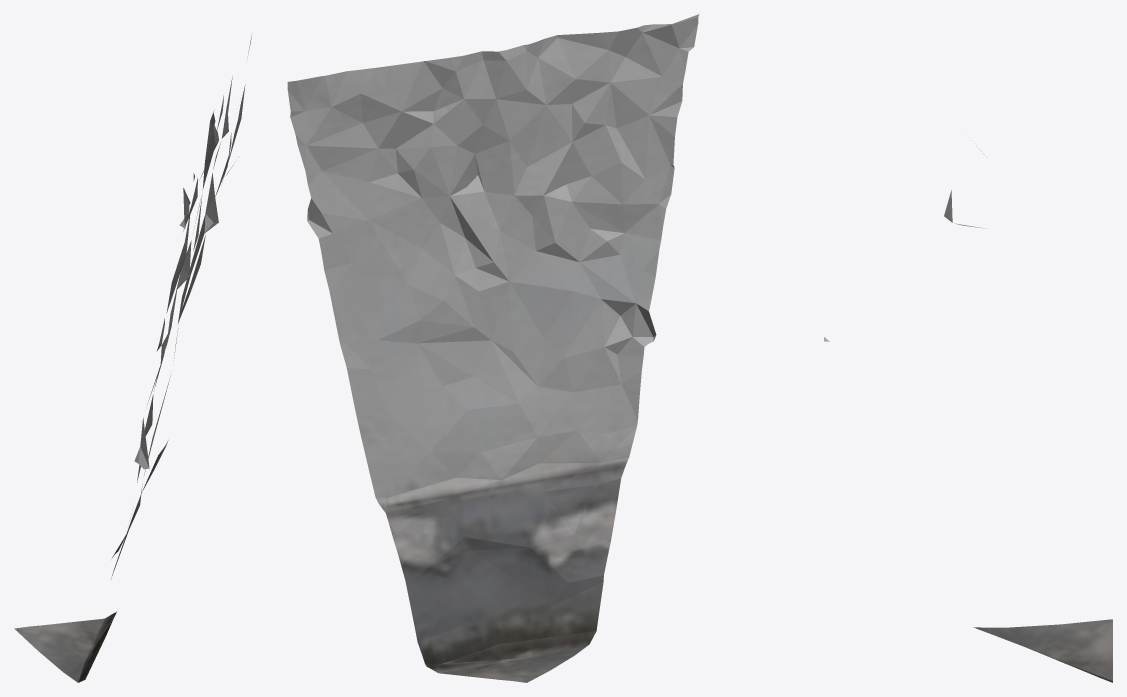
3 views of the same model, side by side, from view 1: azimuth 30°, elevation 25°; view 2: azimuth 150°, elevation 25°; view 3: azimuth 270°, elevation 25° (orthographic). The views are drawn at different scales.
Bounding box in the file's own units: 0.4705 × 1.04 × 0.5875.
Materials: 1 (1 with a texture image).
